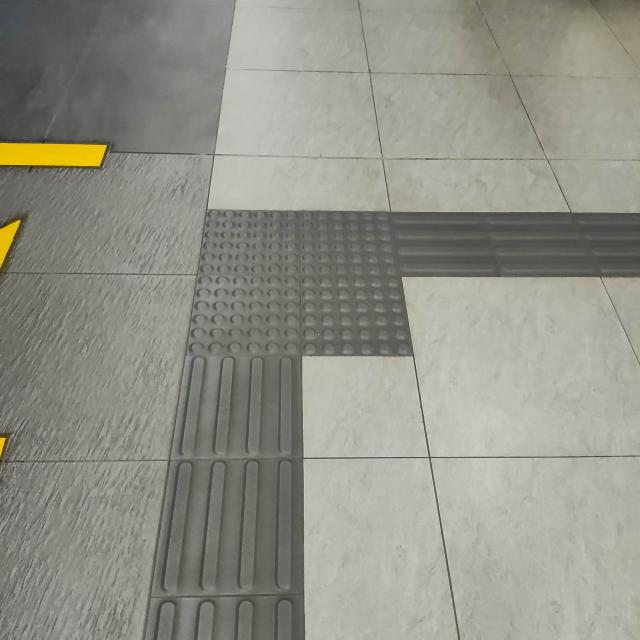kanan: (157, 159, 558, 392)
